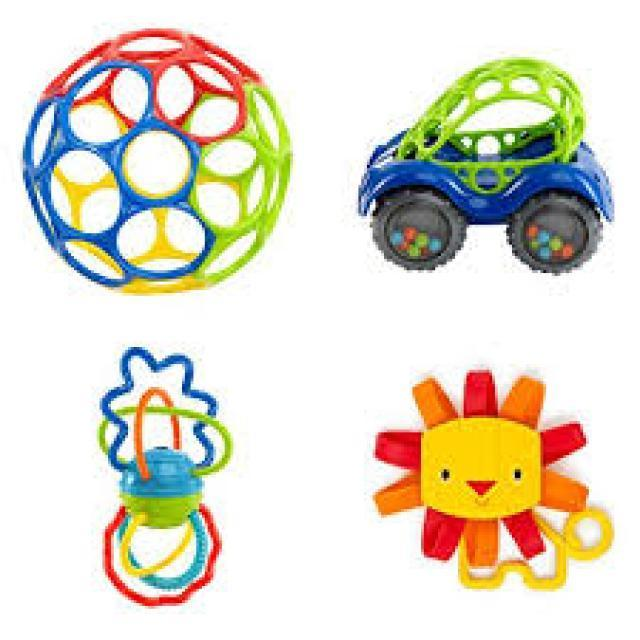hard-toy: (25, 30, 292, 294), (360, 59, 615, 272), (376, 371, 614, 590), (100, 349, 234, 607)
